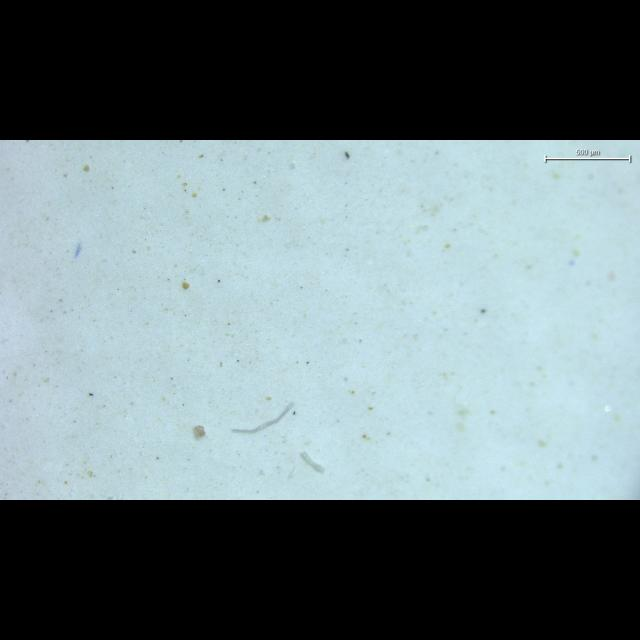Fibre: (232, 402, 294, 433), (232, 403, 294, 433), (300, 451, 324, 473), (345, 151, 350, 159)
Fragment: (194, 426, 206, 437)
